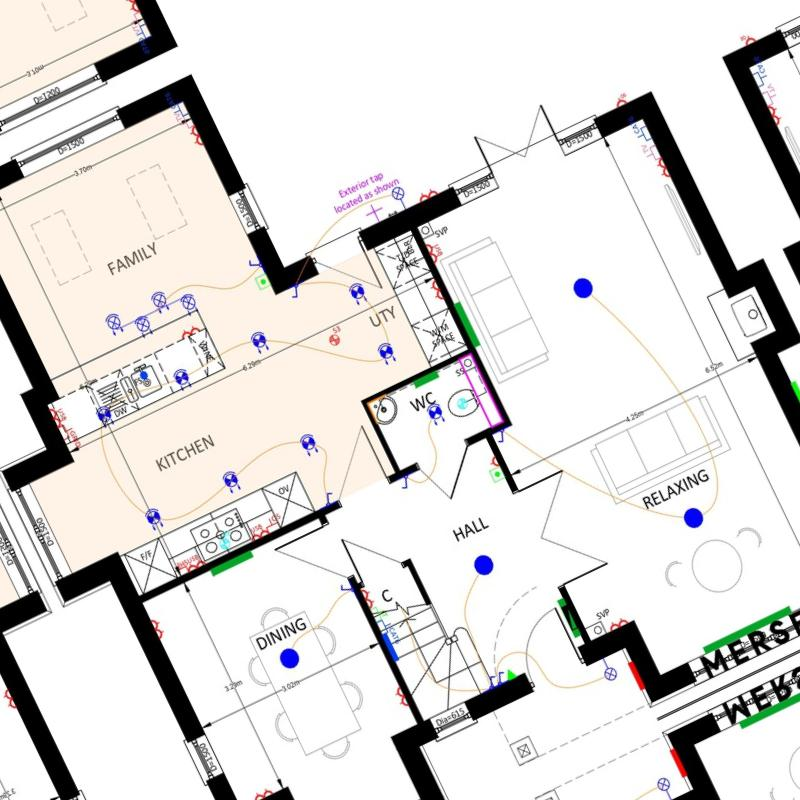BT Entry Point: (507, 669, 516, 681)
Cat 6 Data Socket: (377, 620, 400, 644), (630, 119, 651, 141), (168, 94, 188, 117), (751, 62, 767, 86), (136, 23, 151, 48)
Ceiling Mounted Continuous Extract FanWith Boost Mode Activated By Light Switch: (457, 397, 467, 409)
Ceiling Mounted Continuous Extract FanWith Local Boost Switch: (329, 326, 342, 346)
Co-Ax TV Socket: (641, 144, 661, 160), (763, 83, 776, 106), (174, 113, 193, 128), (131, 13, 144, 33)
Consumer Unit: (561, 605, 577, 631)
Double Socket: (188, 126, 203, 146), (656, 158, 671, 177), (395, 687, 409, 707), (3, 689, 17, 709), (430, 280, 443, 300), (611, 618, 629, 632), (151, 620, 164, 639), (361, 589, 374, 608), (254, 787, 273, 800), (768, 106, 781, 125), (182, 326, 200, 339), (420, 189, 437, 202), (127, 1, 140, 11)
Electric Meter Box: (670, 748, 687, 778), (628, 661, 644, 690)
External Wall Light: (391, 186, 409, 210), (602, 658, 617, 681), (657, 778, 672, 800)
Grid Switch: (58, 425, 81, 449)
Light Switch: (486, 675, 496, 690), (248, 259, 261, 269), (496, 671, 505, 685), (291, 284, 300, 298), (401, 476, 410, 489), (325, 492, 333, 506), (497, 429, 504, 444), (340, 584, 352, 592)
Low Energy Downlighter: (251, 331, 270, 354), (377, 343, 396, 365), (222, 471, 241, 493), (145, 508, 163, 531), (173, 369, 192, 390), (96, 406, 114, 428), (349, 283, 367, 305), (300, 434, 318, 456), (427, 403, 444, 425)
Low Energy Pendant Light: (683, 508, 704, 528), (473, 555, 494, 575), (573, 278, 593, 298), (280, 649, 300, 668)
Outside Socket: (740, 34, 756, 46), (616, 93, 628, 107)
Outside Tap: (366, 203, 383, 224)
Oven Switch: (267, 514, 282, 533)
Programmable Room Thermostat: (489, 467, 504, 483), (255, 274, 270, 289)
Radiator: (703, 606, 792, 653), (739, 692, 800, 729), (454, 302, 480, 347), (211, 551, 253, 576), (557, 598, 580, 637), (412, 372, 440, 388)
Recirculating Extractor Fan: (219, 531, 231, 549)
Single Socket: (490, 456, 499, 467)
Telephone Socket: (371, 606, 387, 622)
Track Light: (105, 290, 197, 338)
USB Double Socket: (186, 555, 206, 572), (426, 243, 443, 263), (49, 408, 66, 427), (251, 524, 268, 542)
Underfloor Heating Manifold: (382, 633, 398, 662)
Water Entry Position: (140, 371, 148, 379)
